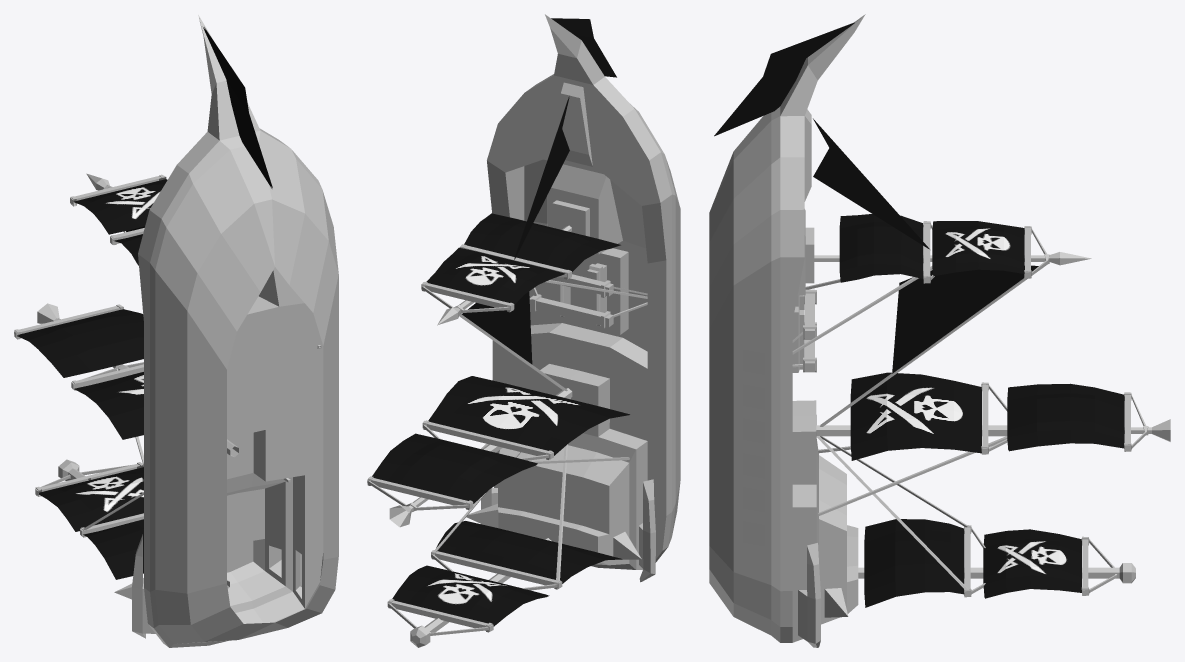
The model's file is main_2_2.fbx.
3 renders of one model, left to right at view 1: azimuth 30°, elevation 25°; view 2: azimuth 150°, elevation 25°; view 3: azimuth 270°, elevation 25°, orthographic. The views are drawn at different scales.
Parts seen in each view (by area): view 1: Cube.592; view 2: Cube.592; view 3: Cube.592.
Part boxes in pixels (<box>): Cube.592: <box>14,15,338,647</box>; Cube.592: <box>367,14,680,647</box>; Cube.592: <box>709,14,1170,647</box>.
Size of the model in its own units: 438 by 1343 by 934.
